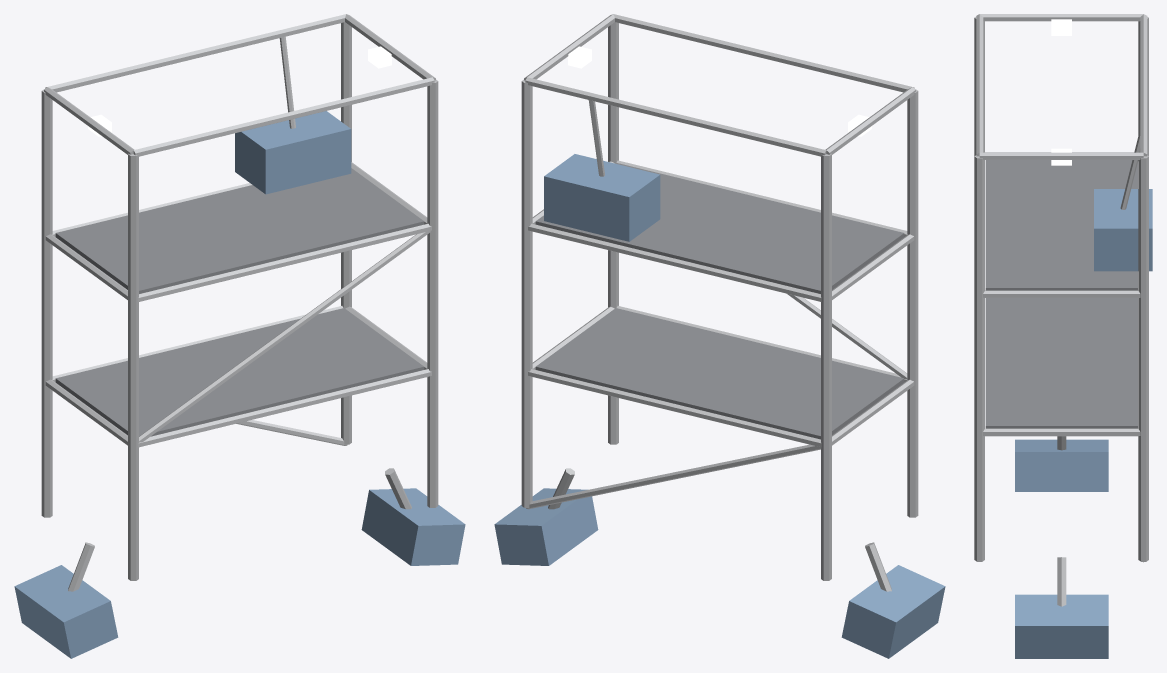
File: place_repair_scaffold.glb
The picture shows the model from 3 angles, left to right: view 1: azimuth 30°, elevation 25°; view 2: azimuth 150°, elevation 25°; view 3: azimuth 270°, elevation 25°; orthographic projection. The views are drawn at different scales.
Parts seen in each view (by area): view 1: deck_b, deck_a, rails, basket, clampjaw1, clampjaw0, post1, post2, post3, post0; view 2: deck_a, rails, deck_b, basket, clampjaw1, clampjaw0, post0, post3, post2, post1; view 3: deck_a, deck_b, rails, clampjaw0, clampjaw1, post1, post0, basket, post3, post2, clamparm0, basket_hanger (+1 smaller).
Part boxes in pixels (x1,y1,x2,y2): deck_b: (55, 168, 424, 293); deck_a: (55, 308, 424, 436); rails: (44, 14, 435, 447); basket: (235, 111, 351, 194); clampjaw1: (14, 565, 118, 658); clampjaw0: (361, 488, 465, 565); post1: (427, 79, 438, 507); post2: (41, 89, 52, 517); post3: (128, 153, 138, 580); post0: (341, 22, 351, 444); deck_a: (535, 308, 904, 439); rails: (524, 14, 915, 509); deck_b: (535, 162, 904, 293); basket: (544, 154, 660, 241); clampjaw1: (841, 565, 945, 658); clampjaw0: (494, 488, 598, 565); post0: (521, 79, 532, 507); post3: (907, 89, 918, 517); post2: (821, 153, 831, 580); post1: (608, 22, 618, 444); deck_a: (985, 298, 1137, 428); deck_b: (985, 160, 1137, 290); rails: (976, 14, 1147, 562); clampjaw0: (1015, 594, 1108, 658); clampjaw1: (1015, 439, 1108, 491); post1: (974, 155, 984, 561); post0: (1138, 155, 1148, 561); basket: (1094, 189, 1152, 271); post3: (974, 16, 984, 155); post2: (1138, 17, 1148, 155); clamparm0: (1057, 557, 1066, 606); basket_hanger: (1120, 129, 1140, 209).
Bounding box in the file's own units: 7.52 × 9.15 × 3.04.
